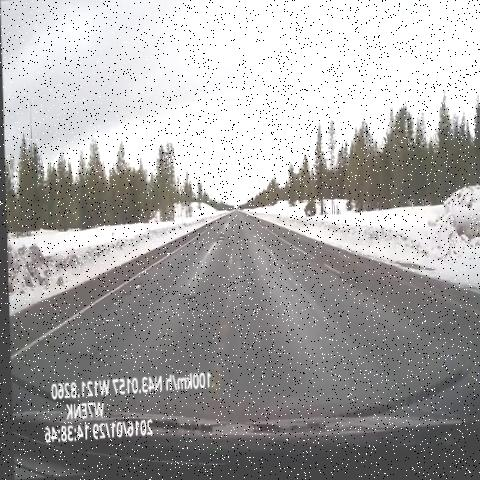pothole: (106, 274, 145, 315), (177, 283, 199, 317), (210, 229, 226, 257), (283, 255, 304, 272), (151, 261, 162, 283)
